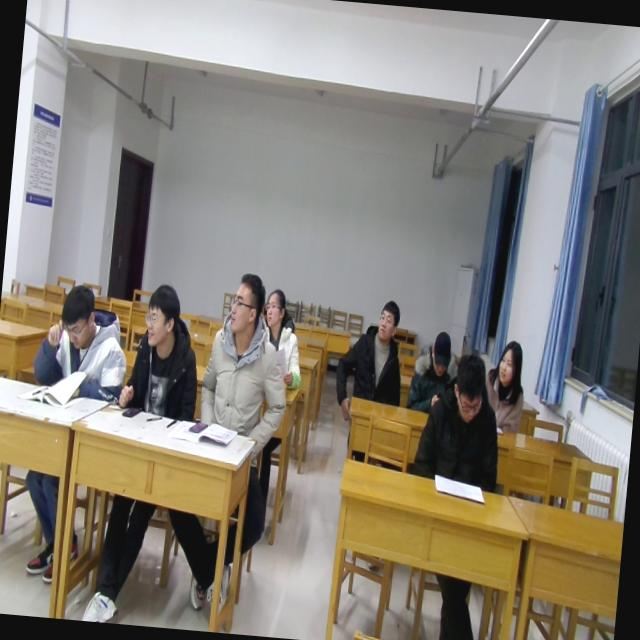down: (444, 342, 491, 427), (56, 274, 101, 353), (424, 326, 456, 381)
sit: (192, 268, 298, 441), (410, 346, 509, 488), (28, 276, 132, 406), (119, 277, 208, 423), (329, 292, 414, 423), (255, 286, 310, 396), (406, 326, 466, 414), (478, 337, 530, 432)
